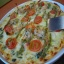pizza: (1, 2, 62, 62)
